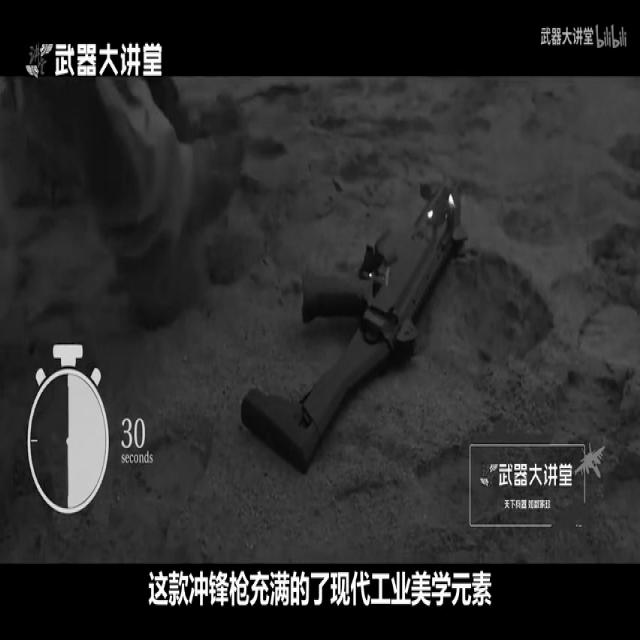Rifle: (210, 100, 502, 564)
